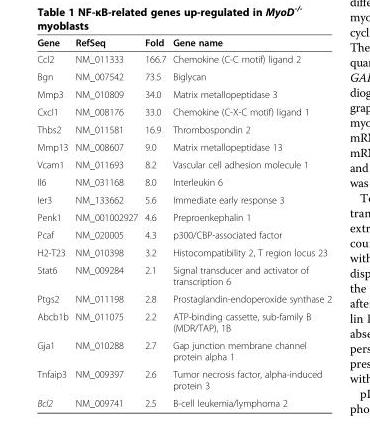table: (36, 36, 331, 408)
table column: (168, 36, 331, 408), (71, 36, 140, 408), (36, 36, 71, 408), (140, 36, 168, 408)
table column header: (36, 36, 331, 50)
table row: (36, 260, 331, 289), (36, 307, 331, 336), (36, 364, 331, 393), (36, 336, 331, 364), (36, 67, 331, 85), (36, 102, 331, 120), (36, 137, 331, 155), (36, 172, 331, 190), (36, 190, 331, 208), (36, 225, 331, 243), (36, 289, 331, 307), (36, 50, 331, 67), (36, 85, 331, 102), (36, 120, 331, 137), (36, 155, 331, 172), (36, 208, 331, 225), (36, 243, 331, 260), (36, 393, 331, 408), (36, 36, 331, 50)
